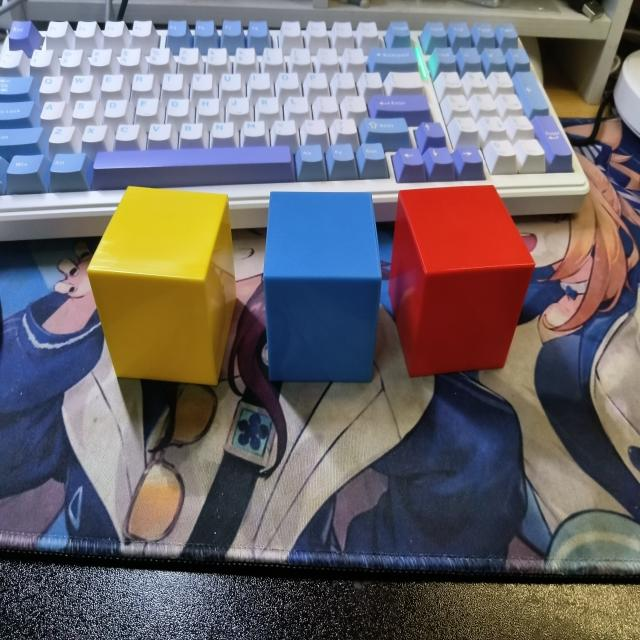blue: (262, 188, 385, 389)
red: (385, 183, 536, 382)
yellow: (87, 188, 238, 390)
